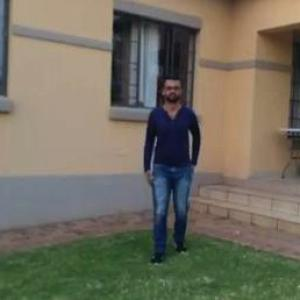follow: (146, 65, 207, 269)
